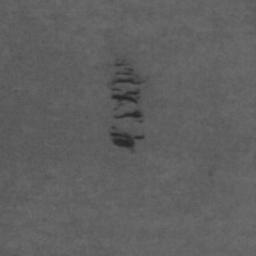Secondary rust skin: (110, 67, 146, 111), (109, 130, 146, 154), (113, 108, 144, 120)
